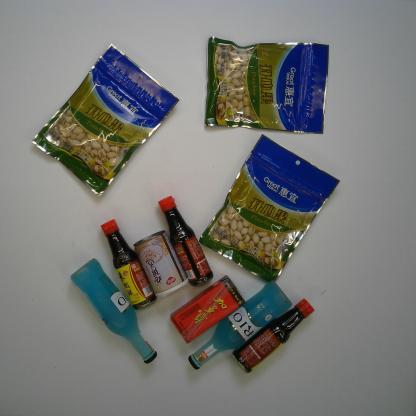Alcohol: (186, 278, 292, 372), (70, 258, 157, 364)
Canned Food: (132, 229, 190, 299)
Dried Fruit: (29, 42, 181, 200), (198, 133, 341, 283), (202, 36, 331, 136)
Drink: (169, 274, 246, 346)
Seasoner: (231, 297, 316, 375), (100, 218, 158, 312), (157, 195, 214, 288)
